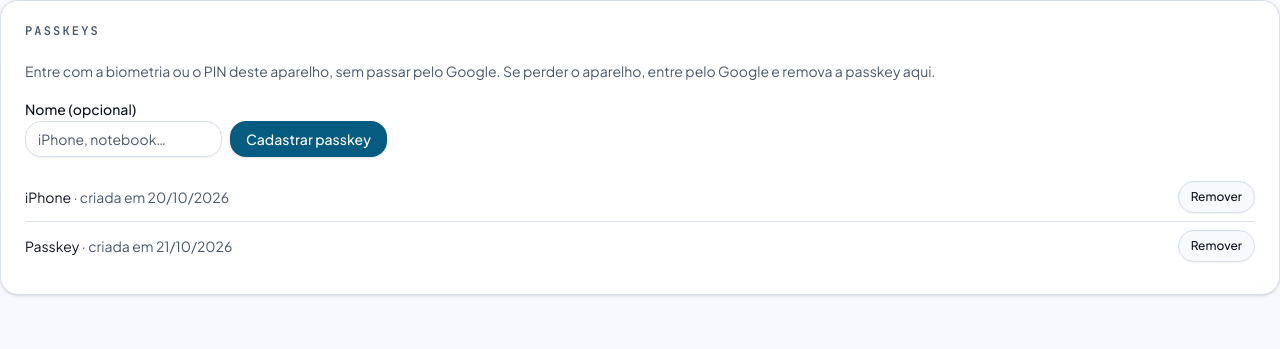
Test: PasskeysCard › erro ao remover aparece em role="alert"
Click the button with aria-label "Remover passkey iPhone" at (1216, 197), box [1178,181,1255,213]
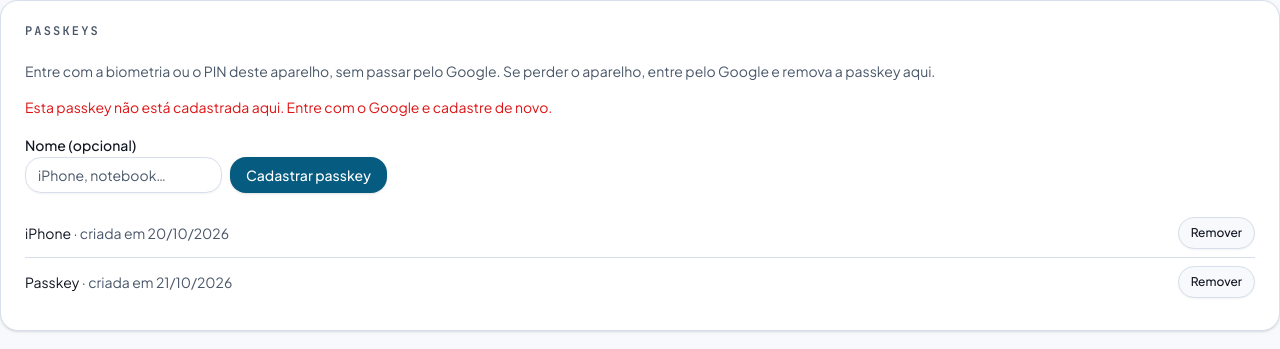
Expected: the message shows "Esta passkey não está cadastrada aqui.", [25,98,552,116]
